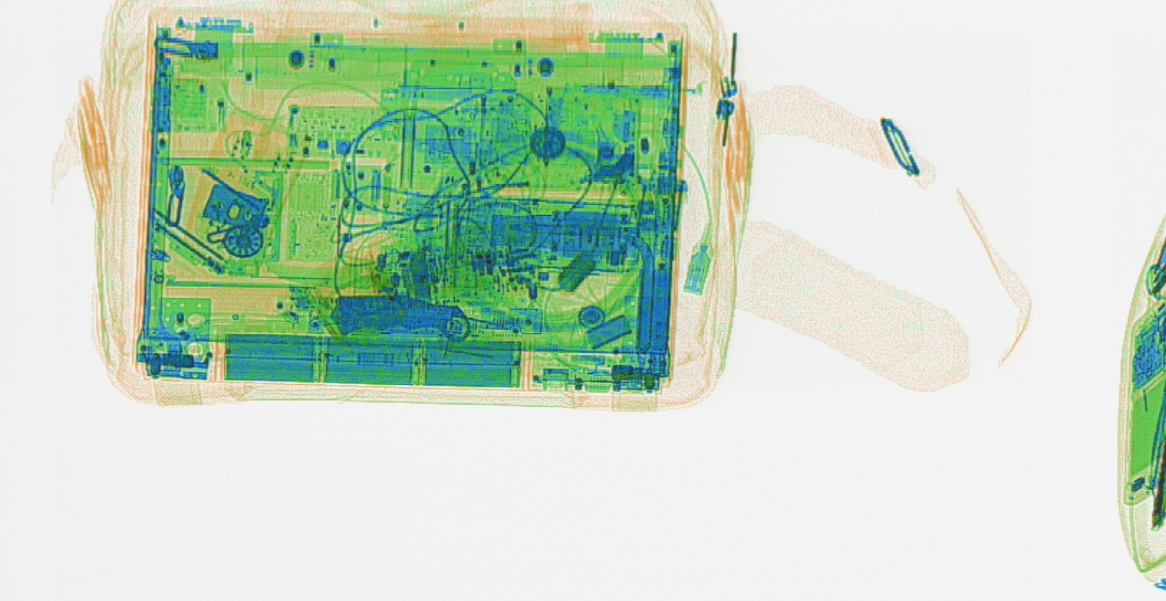knife: (326, 285, 474, 341)
